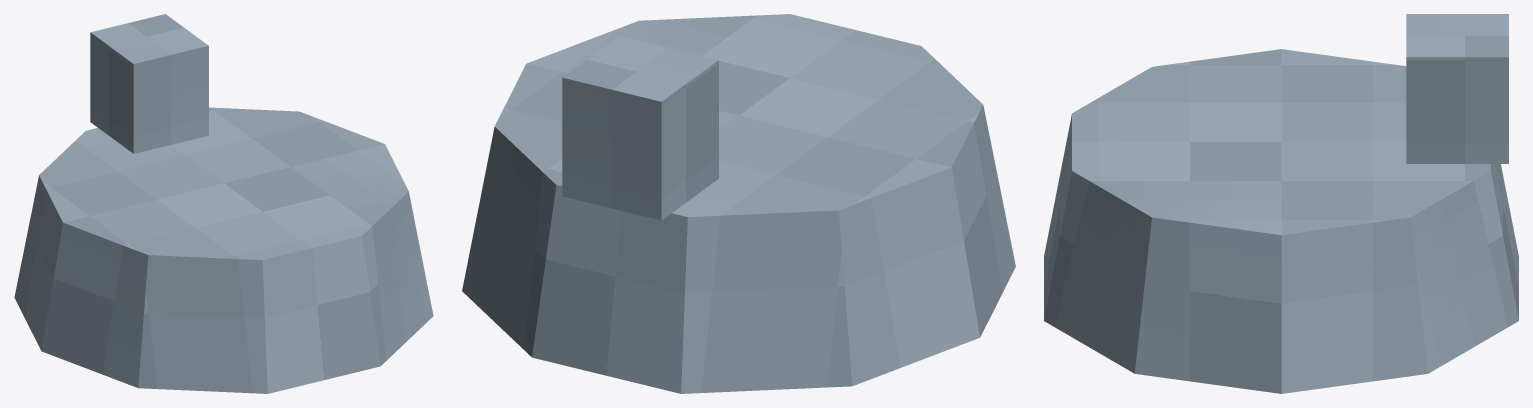
The model's file is pixel-modern-farm-drinking-bowl-1abdddcd__29139.glb.
3 views of the same model, side by side, from view 1: azimuth 30°, elevation 25°; view 2: azimuth 150°, elevation 25°; view 3: azimuth 270°, elevation 25° (orthographic). The views are drawn at different scales.
Parts seen in each view (by area): view 1: drinking-bowl; view 2: drinking-bowl; view 3: drinking-bowl.
Boxes of the visible parts, bbox=[...] form: drinking-bowl: bbox=[14, 14, 433, 393]; drinking-bowl: bbox=[462, 14, 1015, 393]; drinking-bowl: bbox=[1044, 14, 1518, 393].
Bounding box in the file's own units: 0.68 × 0.38 × 0.6467.
Materials: 2 (2 with a texture image).
